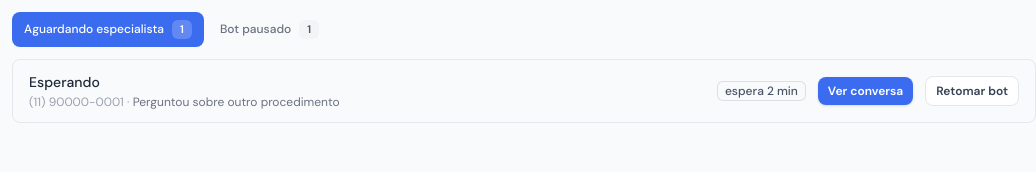
separação das abas › a aba de pausadas mostra o resto
Click the button "Bot pausado 1".
click(270, 29)  # box [208, 12, 331, 47]
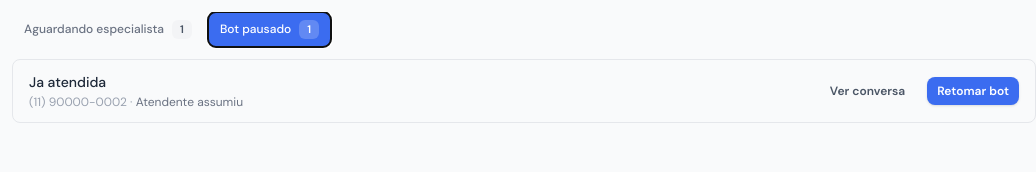
Check: the number of list items is 1, box [29, 73, 1019, 110]
Check: the list item shows "Ja atendida", box [29, 73, 106, 91]
